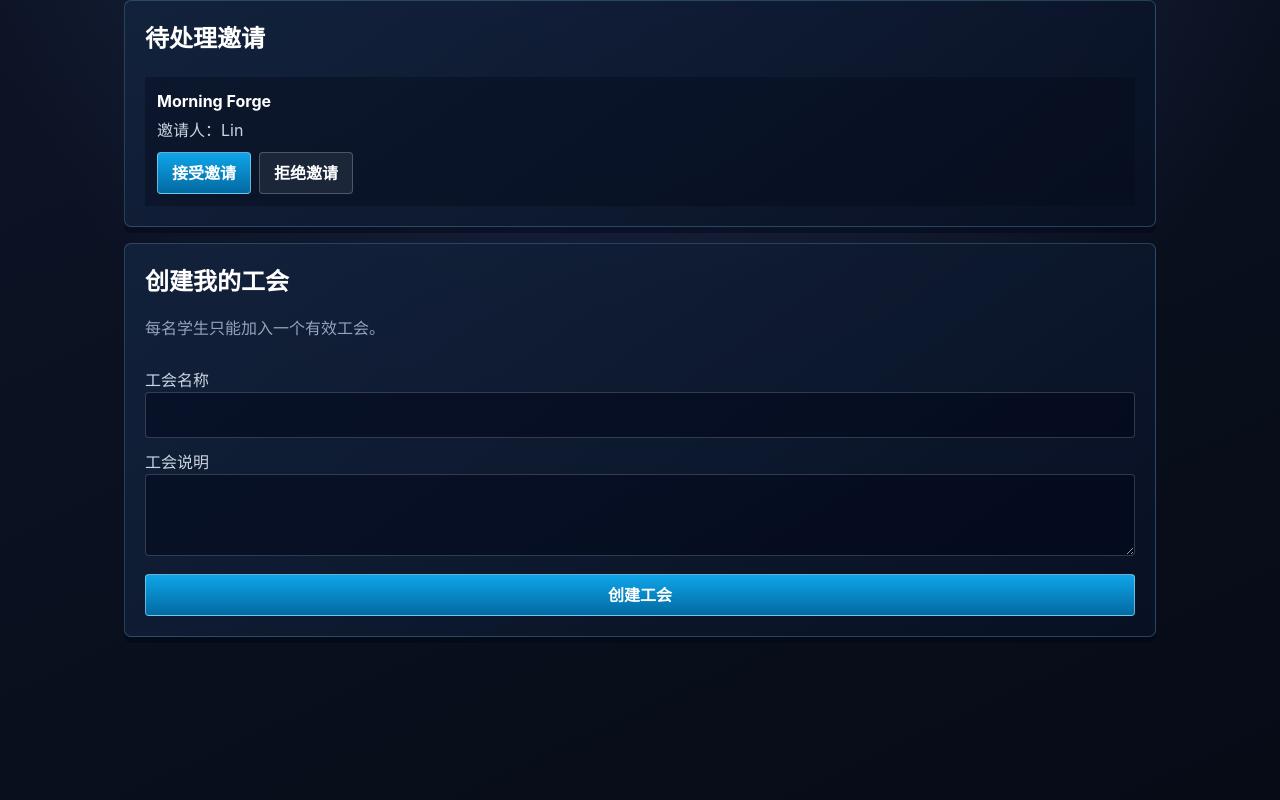
Scenario: GuildWorkspace › lets an invited student accept a guild invitation
Click the button "接受邀请": (204, 173) [157,152,251,194]
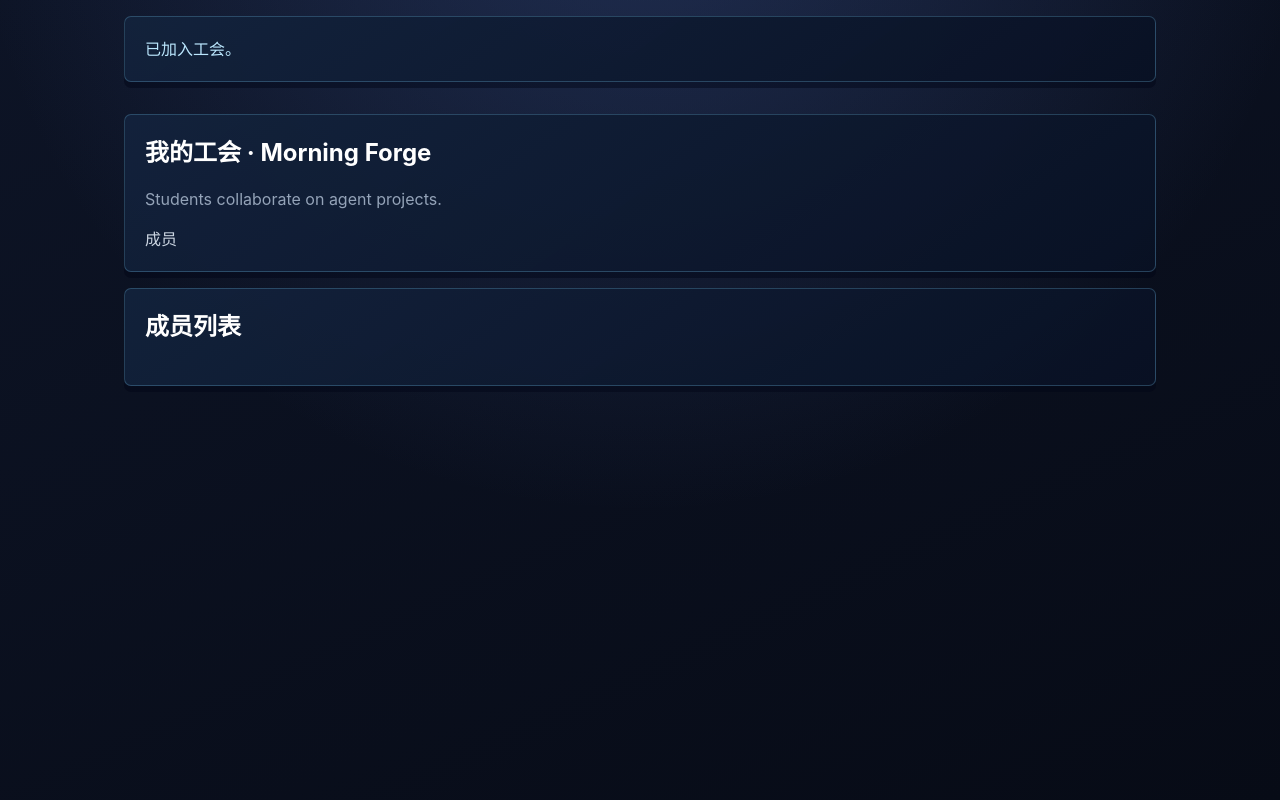
Now the text "已加入工会。" is shown, box [124,16,1156,82]
Now the heading "我的工会 · Morning Forge" is shown, box [145,138,431,167]
